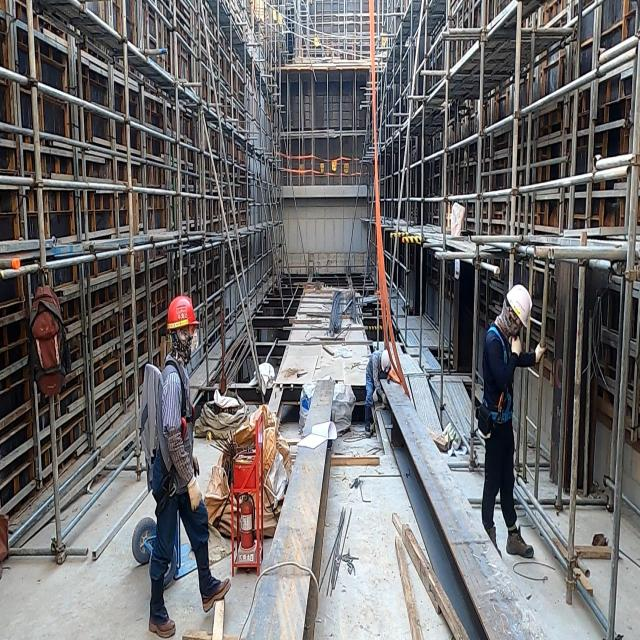boots: (506, 523, 540, 574), (198, 582, 238, 614), (143, 605, 179, 640)
no-boots: (160, 283, 209, 344), (508, 279, 537, 334)
